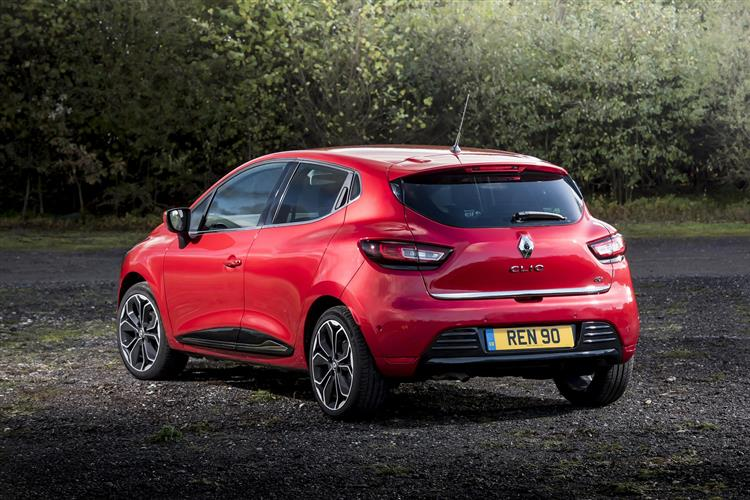car: (119, 147, 638, 411)
